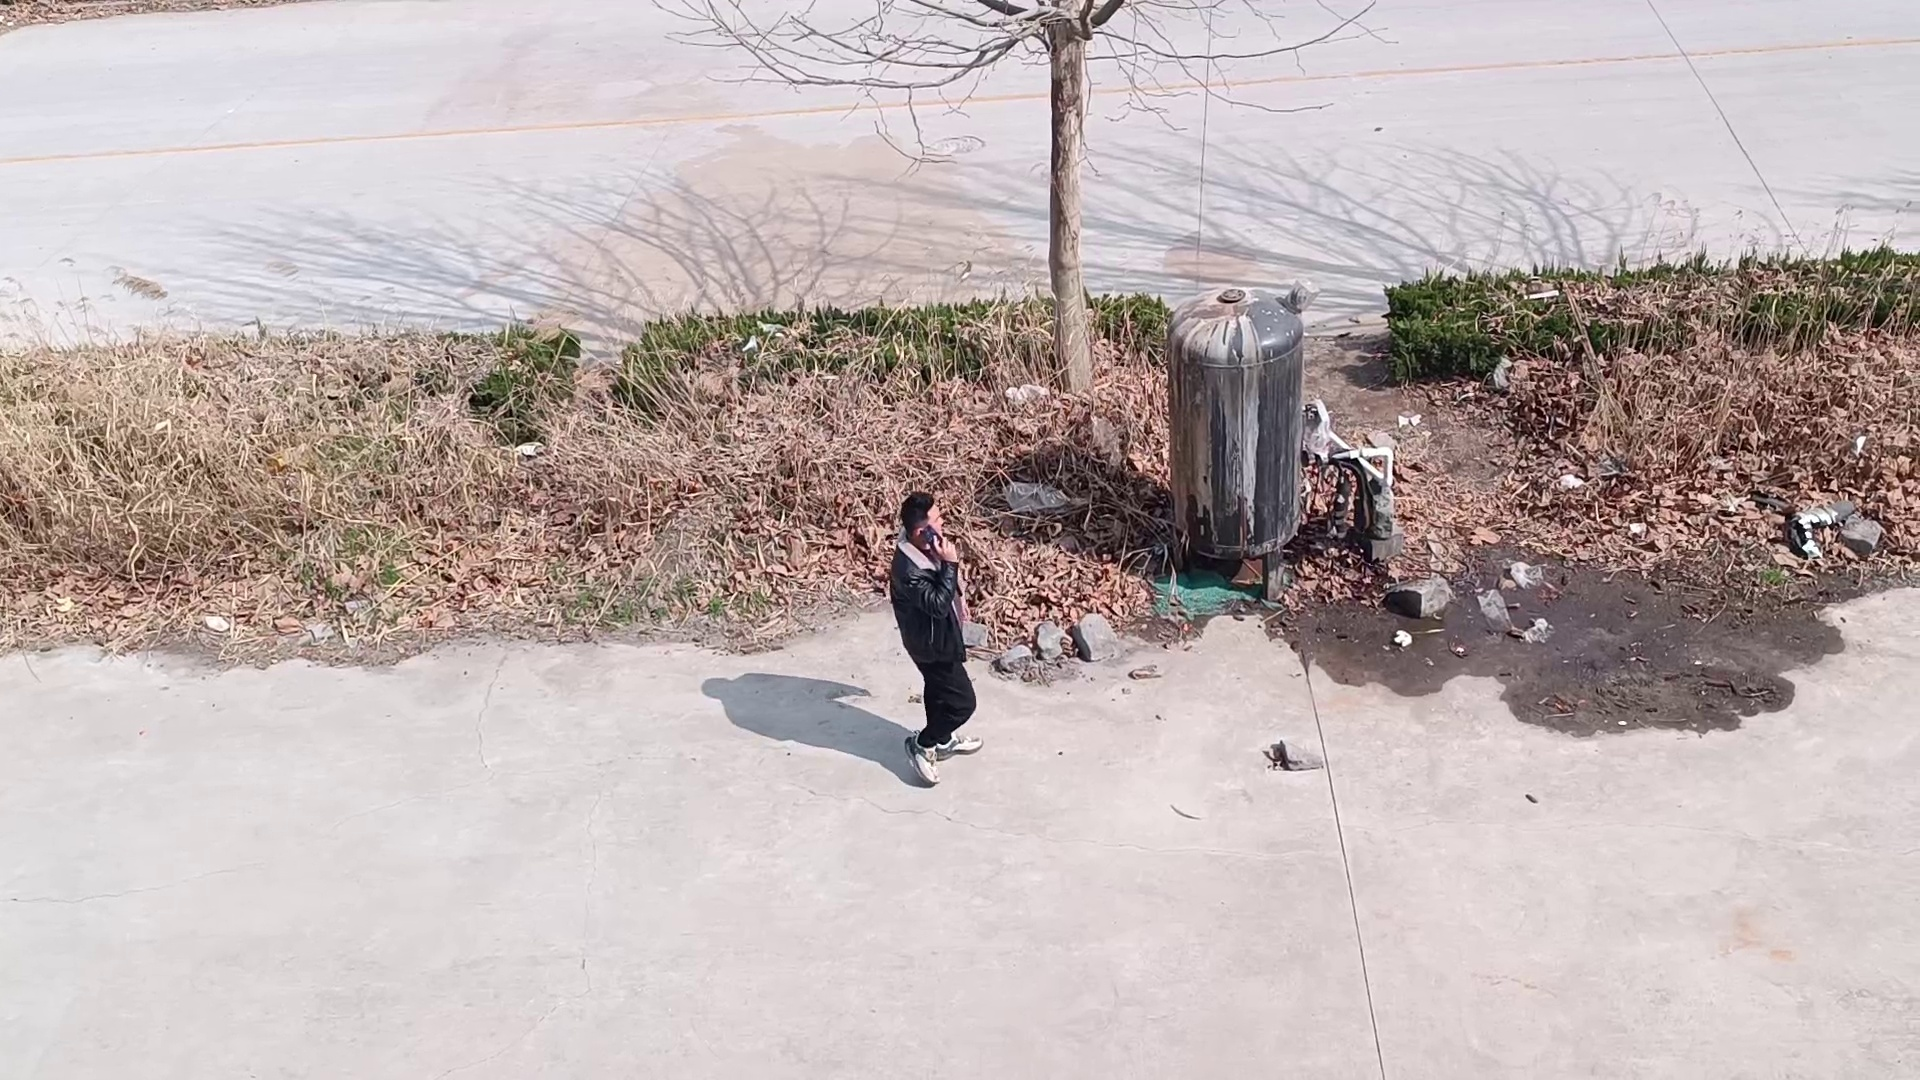phone: (903, 489, 956, 571)
